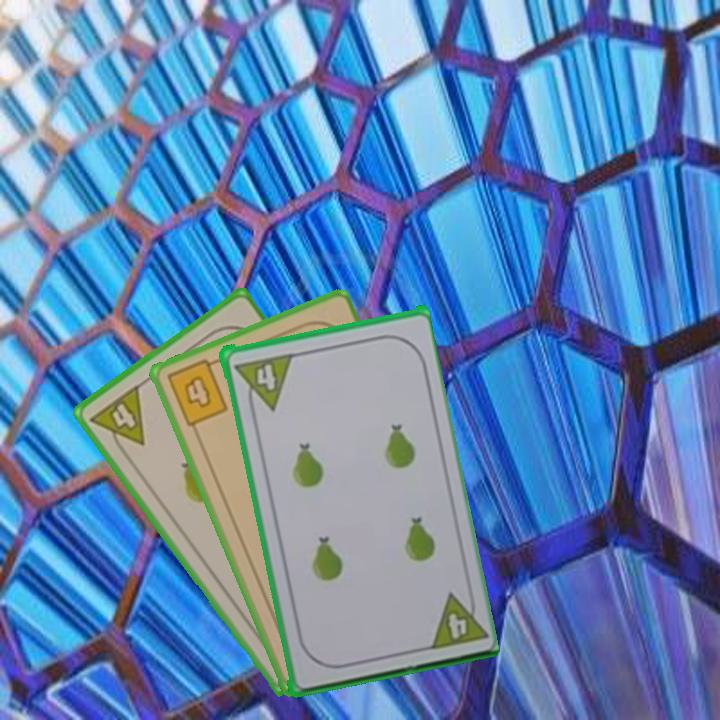4b: (163, 354, 231, 429)
4p: (86, 381, 148, 460), (249, 354, 295, 410), (443, 609, 470, 642)
